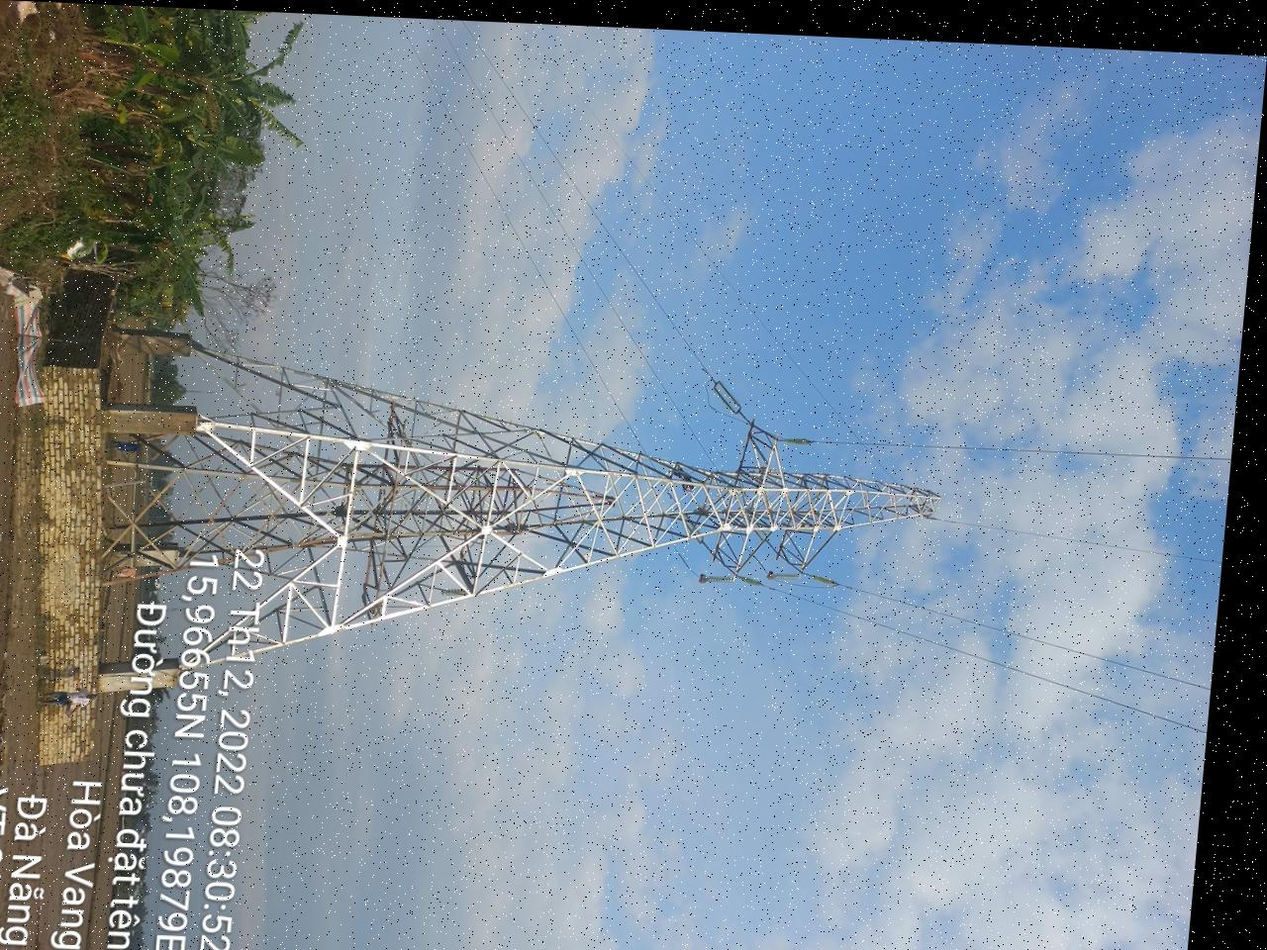tower: (569, 30, 920, 721)
